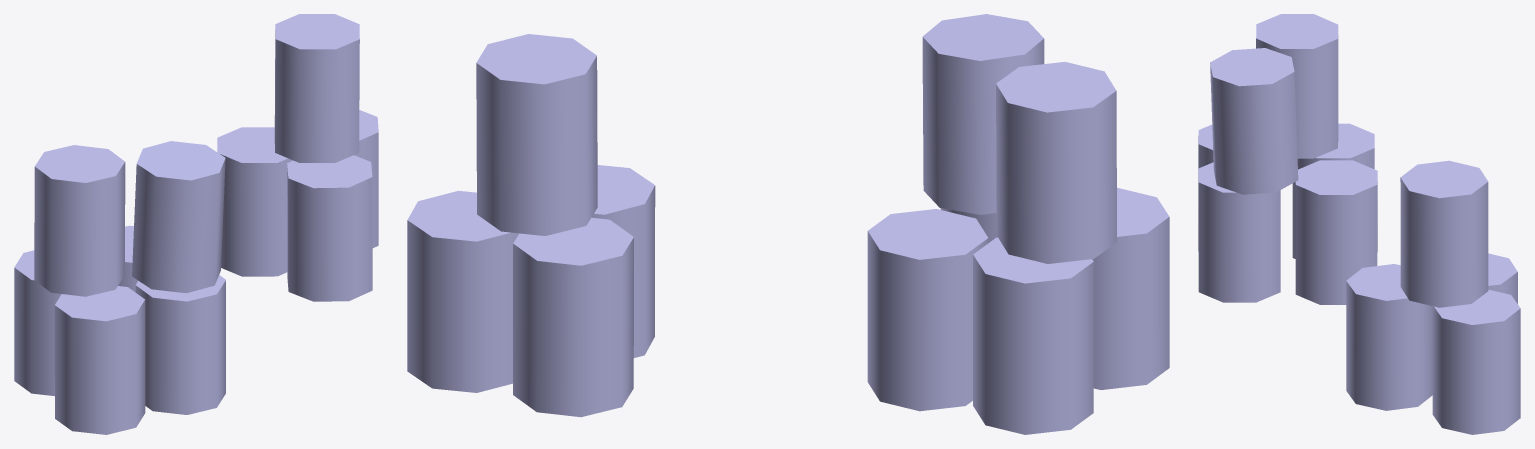
File: Barrelgroup1.fbx
3 renders of one model, left to right at view 1: azimuth 30°, elevation 25°; view 2: azimuth 150°, elevation 25°; view 3: azimuth 270°, elevation 25°, orthographic. The views are drawn at different scales.
Parts seen in each view (by area): view 1: barrel_alley; view 2: barrel_alley; view 3: barrel_alley.
Part boxes in pixels (x1,y1,x2,y2): barrel_alley: (14,14,378,434); barrel_alley: (407,14,1169,434); barrel_alley: (1198,14,1520,434).
Bounding box in the file's own units: 541 × 274 × 359.
